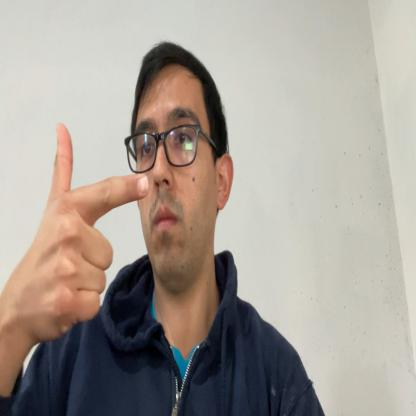G: (26, 121, 149, 341)
